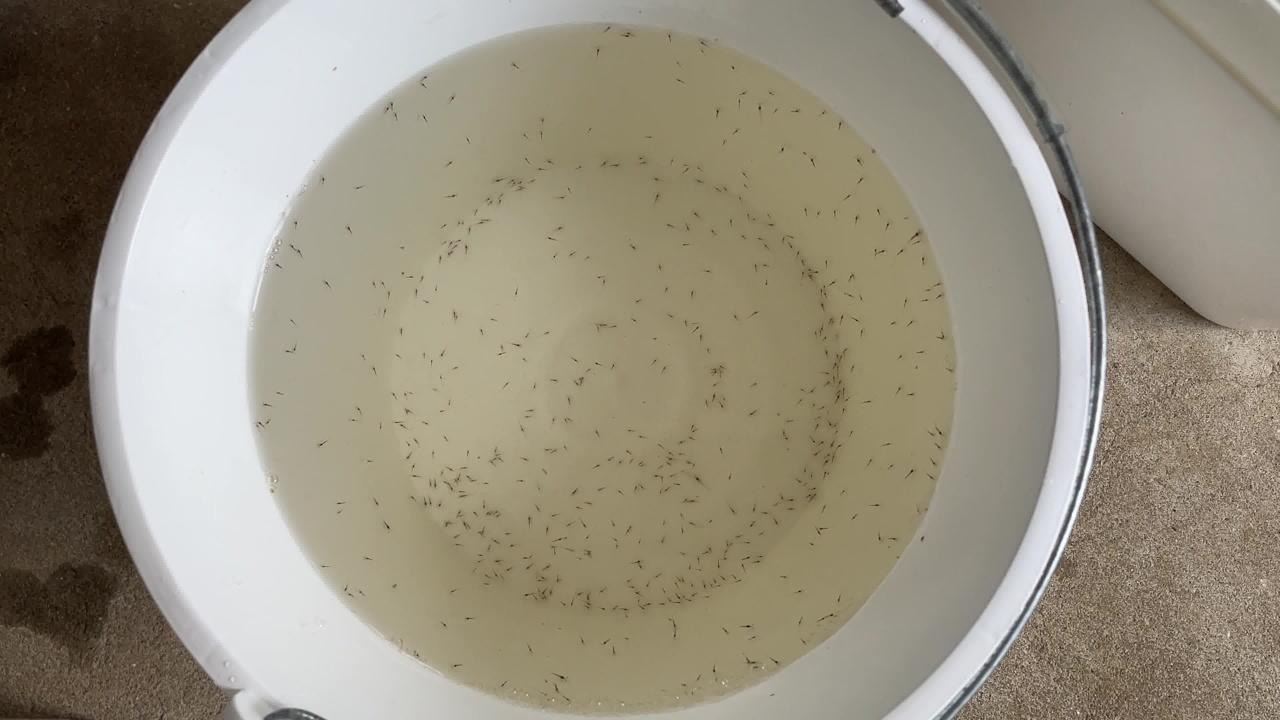shrimp: (287, 244, 299, 252), (295, 250, 307, 258), (275, 259, 287, 267), (290, 221, 302, 229), (319, 182, 331, 190), (341, 221, 353, 229), (355, 188, 367, 196), (322, 281, 334, 289), (286, 320, 298, 328), (282, 351, 294, 359), (292, 345, 304, 353), (280, 389, 292, 397), (262, 401, 274, 409), (254, 421, 266, 429), (264, 419, 276, 427), (315, 444, 327, 452), (336, 498, 348, 506), (335, 509, 347, 517), (347, 419, 359, 427), (352, 410, 364, 418), (318, 564, 330, 572), (340, 586, 352, 594), (345, 593, 357, 601), (359, 588, 371, 596), (361, 556, 373, 564), (385, 522, 397, 530), (372, 501, 384, 509), (364, 461, 376, 469), (375, 426, 387, 434), (356, 355, 368, 363), (368, 370, 380, 378), (388, 392, 400, 400), (397, 392, 409, 400), (405, 390, 417, 398), (393, 354, 405, 362), (380, 314, 392, 322), (371, 281, 383, 289), (378, 279, 390, 287), (382, 292, 394, 300), (382, 105, 394, 113), (387, 99, 399, 107), (392, 114, 404, 122), (419, 82, 431, 90), (419, 76, 431, 84), (419, 113, 431, 121), (444, 98, 456, 106), (511, 63, 523, 71), (592, 50, 604, 58), (598, 27, 610, 35), (616, 35, 628, 43), (624, 30, 636, 38), (660, 34, 672, 42), (676, 61, 688, 69), (675, 81, 687, 89), (694, 51, 706, 59), (693, 37, 705, 45), (537, 133, 549, 141), (520, 130, 532, 138), (465, 140, 477, 148), (446, 160, 458, 168), (449, 196, 461, 204), (398, 244, 410, 252), (397, 268, 409, 276), (407, 273, 419, 281), (421, 275, 433, 283), (410, 287, 422, 295), (395, 329, 407, 337), (421, 299, 433, 307), (433, 284, 445, 292), (432, 251, 444, 259), (441, 225, 453, 233), (438, 239, 450, 247), (444, 239, 456, 247), (452, 236, 464, 244), (448, 244, 460, 252), (445, 252, 457, 260), (453, 220, 465, 228), (465, 226, 477, 234), (462, 246, 474, 254), (470, 209, 482, 217), (482, 218, 494, 226), (475, 221, 487, 229), (482, 203, 494, 211), (483, 193, 495, 201), (493, 174, 505, 182), (495, 193, 507, 201), (495, 199, 507, 207), (504, 177, 516, 185), (513, 178, 525, 186), (520, 184, 532, 192), (515, 186, 527, 194), (527, 179, 539, 187), (523, 159, 535, 167), (538, 168, 550, 176), (543, 158, 555, 166), (426, 360, 438, 368), (421, 351, 433, 359), (433, 351, 445, 359), (452, 314, 464, 322), (450, 368, 462, 376), (436, 375, 448, 383), (428, 389, 440, 397), (401, 407, 413, 415), (393, 419, 405, 427), (399, 424, 411, 432), (422, 419, 434, 427), (435, 409, 447, 417), (448, 400, 460, 408), (409, 439, 421, 447), (402, 440, 414, 448), (402, 450, 414, 458), (408, 461, 420, 469), (412, 471, 424, 479), (428, 450, 440, 458), (439, 437, 451, 445), (501, 381, 513, 389), (496, 352, 508, 360), (498, 346, 510, 354), (475, 330, 487, 338), (487, 318, 499, 326), (511, 292, 523, 300), (508, 344, 520, 352), (517, 355, 529, 363), (522, 333, 534, 341), (547, 331, 559, 339), (551, 255, 563, 263), (550, 237, 562, 245), (553, 226, 565, 234), (557, 193, 569, 201), (565, 186, 577, 194), (575, 166, 587, 174), (585, 127, 597, 135), (537, 116, 549, 124), (729, 65, 741, 73), (739, 90, 751, 98), (735, 100, 747, 108), (713, 107, 725, 115), (649, 134, 661, 142), (635, 154, 647, 162), (638, 161, 650, 169), (597, 160, 609, 168), (607, 160, 619, 168), (566, 248, 578, 256), (581, 258, 593, 266), (597, 273, 609, 281), (599, 282, 611, 290), (887, 535, 899, 543), (874, 535, 886, 543), (821, 613, 833, 621), (816, 619, 828, 627), (835, 597, 847, 605), (825, 611, 837, 619), (799, 618, 811, 626), (799, 642, 811, 650), (447, 661, 459, 669), (390, 584, 402, 592), (440, 620, 452, 628), (448, 589, 460, 597), (462, 613, 474, 621), (527, 645, 539, 653), (497, 682, 509, 690), (557, 672, 569, 680), (550, 682, 562, 690), (539, 690, 551, 698), (561, 694, 573, 702), (608, 651, 620, 659), (599, 642, 611, 650), (580, 640, 592, 648), (621, 638, 633, 646), (671, 632, 683, 640), (671, 625, 683, 633), (666, 618, 678, 626), (713, 668, 725, 676), (693, 676, 705, 684), (676, 684, 688, 692), (725, 628, 737, 636), (741, 622, 753, 630), (746, 635, 758, 643), (751, 657, 763, 665), (741, 656, 753, 664), (774, 661, 786, 669), (754, 664, 766, 672), (792, 593, 804, 601), (780, 577, 792, 585), (430, 480, 442, 488), (425, 480, 437, 488), (427, 503, 439, 511), (421, 502, 433, 510), (404, 498, 416, 506), (435, 506, 447, 514), (444, 486, 456, 494), (438, 472, 450, 480), (463, 450, 475, 458), (522, 416, 534, 424), (524, 408, 536, 416), (530, 379, 542, 387), (547, 381, 559, 389), (571, 360, 583, 368), (518, 425, 530, 433), (445, 470, 457, 478), (452, 482, 464, 490), (455, 476, 467, 484), (457, 465, 469, 473), (467, 477, 479, 485), (463, 473, 475, 481), (475, 455, 487, 463), (486, 461, 498, 469), (496, 457, 508, 465), (488, 457, 500, 465), (494, 451, 506, 459), (490, 448, 502, 456), (437, 522, 449, 530), (445, 521, 457, 529), (458, 495, 470, 503), (453, 488, 465, 496), (454, 509, 466, 517), (456, 513, 468, 521), (459, 523, 471, 531), (466, 522, 478, 530), (469, 512, 481, 520), (478, 482, 490, 490), (452, 529, 464, 537), (452, 539, 464, 547), (471, 530, 483, 538), (479, 527, 491, 535), (478, 500, 490, 508), (483, 509, 495, 517), (487, 512, 499, 520), (492, 510, 504, 518), (494, 516, 506, 524), (492, 537, 504, 545), (487, 542, 499, 550), (478, 552, 490, 560), (479, 558, 491, 566), (473, 565, 485, 573), (481, 572, 493, 580), (481, 580, 493, 588), (491, 570, 503, 578), (493, 559, 505, 567), (500, 533, 512, 541), (511, 543, 523, 551), (517, 479, 529, 487), (520, 457, 532, 465), (723, 142, 735, 150), (733, 127, 745, 135), (684, 169, 696, 177), (680, 158, 692, 166), (652, 176, 664, 184), (653, 194, 665, 202), (666, 157, 678, 165), (629, 242, 641, 250), (591, 325, 603, 333), (602, 321, 614, 329), (608, 327, 620, 335), (577, 380, 589, 388), (576, 373, 588, 381), (570, 381, 582, 389), (584, 371, 596, 379), (593, 361, 605, 369), (607, 365, 619, 373), (630, 317, 642, 325), (634, 301, 646, 309), (648, 336, 660, 344), (649, 356, 661, 364), (659, 364, 671, 372), (564, 418, 576, 426), (560, 419, 572, 427), (566, 398, 578, 406), (550, 417, 562, 425), (680, 323, 692, 331), (688, 320, 700, 328), (667, 313, 679, 321), (660, 286, 672, 294), (656, 263, 668, 271), (686, 292, 698, 300), (694, 334, 706, 342), (705, 349, 717, 357), (732, 314, 744, 322), (748, 314, 760, 322), (700, 270, 712, 278), (664, 218, 676, 226), (682, 240, 694, 248), (692, 212, 704, 220), (681, 226, 693, 234), (697, 168, 709, 176), (698, 179, 710, 187), (756, 106, 768, 114), (766, 91, 778, 99), (792, 109, 804, 117), (772, 109, 784, 117), (776, 149, 788, 157), (809, 157, 821, 165), (800, 151, 812, 159), (817, 110, 829, 118), (832, 120, 844, 128), (854, 163, 866, 171), (857, 178, 869, 186), (842, 194, 854, 202), (830, 208, 842, 216), (812, 211, 824, 219), (799, 209, 811, 217), (741, 171, 753, 179), (725, 185, 737, 193), (716, 187, 728, 195), (745, 183, 757, 191), (737, 197, 749, 205), (706, 231, 718, 239), (725, 221, 737, 229), (569, 490, 581, 498), (548, 450, 560, 458), (542, 447, 554, 455), (558, 447, 570, 455), (543, 470, 555, 478), (533, 486, 545, 494), (534, 506, 546, 514), (524, 518, 536, 526), (504, 568, 516, 576), (517, 554, 529, 562), (527, 553, 539, 561), (520, 566, 532, 574), (521, 590, 533, 598), (558, 602, 570, 610), (569, 603, 581, 611), (572, 589, 584, 597), (600, 588, 612, 596), (585, 592, 597, 600), (583, 599, 595, 607), (582, 605, 594, 613), (598, 608, 610, 616), (622, 614, 634, 622), (619, 608, 631, 616), (610, 607, 622, 615), (627, 527, 639, 535), (607, 537, 619, 545), (552, 515, 564, 523), (611, 544, 623, 552), (607, 521, 619, 529), (542, 528, 554, 536), (556, 538, 568, 546), (545, 545, 557, 553), (551, 553, 563, 561), (578, 528, 590, 536), (562, 522, 574, 530), (567, 547, 579, 555), (584, 552, 596, 560), (584, 545, 596, 553), (574, 557, 586, 565), (574, 505, 586, 513), (587, 503, 599, 511), (596, 487, 608, 495), (591, 464, 603, 472), (593, 430, 605, 438), (604, 457, 616, 465), (542, 565, 554, 573), (539, 571, 551, 579), (534, 575, 546, 583), (554, 576, 566, 584), (547, 592, 559, 600), (538, 598, 550, 606), (528, 598, 540, 606), (540, 591, 552, 599), (532, 589, 544, 597), (620, 574, 632, 582), (624, 582, 636, 590), (631, 590, 643, 598), (631, 601, 643, 609), (643, 600, 655, 608), (644, 581, 656, 589), (637, 566, 649, 574), (634, 559, 646, 567), (636, 538, 648, 546), (661, 600, 673, 608), (660, 589, 672, 597), (655, 572, 667, 580), (659, 538, 671, 546), (659, 519, 671, 527), (618, 491, 630, 499), (615, 458, 627, 466), (623, 449, 635, 457), (623, 426, 635, 434), (635, 436, 647, 444), (738, 235, 750, 243), (742, 212, 754, 220), (752, 217, 764, 225), (766, 212, 778, 220), (768, 221, 780, 229), (755, 236, 767, 244), (763, 243, 775, 251), (750, 264, 762, 272), (760, 280, 772, 288), (758, 262, 770, 270), (776, 237, 788, 245), (786, 231, 798, 239), (785, 242, 797, 250), (792, 250, 804, 258), (800, 257, 812, 265), (799, 273, 811, 281), (813, 270, 825, 278), (803, 264, 815, 272), (806, 274, 818, 282), (821, 261, 833, 269), (848, 216, 860, 224), (870, 208, 882, 216), (884, 227, 896, 235), (869, 247, 881, 255), (877, 251, 889, 259), (898, 249, 910, 257), (912, 229, 924, 237), (912, 238, 924, 246), (918, 258, 930, 266), (923, 286, 935, 294), (920, 295, 932, 303), (936, 279, 948, 287), (933, 291, 945, 299), (940, 332, 952, 340), (935, 336, 947, 344), (946, 370, 958, 378), (922, 476, 934, 484), (930, 461, 942, 469), (935, 449, 947, 457), (924, 427, 936, 435), (938, 427, 950, 435), (904, 463, 916, 471), (872, 501, 884, 509), (850, 517, 862, 525), (821, 526, 833, 534), (813, 530, 825, 538), (805, 543, 817, 551), (816, 504, 828, 512), (840, 491, 852, 499), (865, 456, 877, 464), (877, 442, 889, 450), (889, 465, 901, 473), (889, 322, 901, 330), (901, 301, 913, 309), (906, 318, 918, 326), (895, 355, 907, 363), (891, 388, 903, 396), (863, 397, 875, 405), (913, 393, 925, 401), (912, 365, 924, 373), (918, 349, 930, 357), (715, 447, 727, 455), (701, 402, 713, 410), (709, 393, 721, 401), (710, 372, 722, 380), (708, 366, 720, 374), (718, 362, 730, 370), (718, 371, 730, 379), (709, 380, 721, 388), (715, 405, 727, 413), (720, 398, 732, 406), (815, 289, 827, 297), (822, 294, 834, 302), (819, 284, 831, 292), (747, 384, 759, 392), (746, 409, 758, 417), (629, 487, 641, 495), (637, 485, 649, 493), (623, 458, 635, 466), (635, 463, 647, 471), (690, 430, 702, 438), (686, 425, 698, 433), (685, 436, 697, 444), (676, 442, 688, 450), (651, 441, 663, 449), (666, 449, 678, 457), (678, 451, 690, 459), (667, 456, 679, 464), (663, 462, 675, 470), (657, 463, 669, 471), (652, 473, 664, 481), (656, 477, 668, 485), (843, 276, 855, 284), (828, 281, 840, 289), (852, 274, 864, 282), (843, 291, 855, 299), (855, 297, 867, 305), (849, 319, 861, 327), (816, 303, 828, 311), (823, 317, 835, 325), (828, 320, 840, 328), (839, 314, 851, 322), (858, 333, 870, 341), (783, 437, 795, 445), (777, 427, 789, 435), (774, 411, 786, 419), (694, 474, 706, 482), (654, 489, 666, 497), (673, 482, 685, 490), (688, 464, 700, 472), (683, 458, 695, 466), (672, 471, 684, 479), (662, 488, 674, 496), (676, 497, 688, 505), (689, 499, 701, 507), (694, 495, 706, 503), (726, 476, 738, 484), (676, 514, 688, 522), (677, 532, 689, 540), (678, 553, 690, 561), (669, 583, 681, 591), (672, 603, 684, 611), (673, 594, 685, 602), (670, 575, 682, 583), (682, 578, 694, 586), (685, 564, 697, 572), (688, 520, 700, 528), (705, 518, 717, 526), (729, 510, 741, 518), (820, 324, 832, 332), (816, 332, 828, 340), (810, 330, 822, 338), (821, 353, 833, 361), (839, 348, 851, 356), (832, 351, 844, 359), (836, 359, 848, 367), (828, 363, 840, 371), (818, 368, 830, 376), (822, 383, 834, 391), (831, 374, 843, 382), (795, 388, 807, 396), (809, 390, 821, 398), (792, 397, 804, 405), (785, 418, 797, 426), (746, 506, 758, 514), (755, 531, 767, 539), (750, 519, 762, 527), (768, 519, 780, 527), (756, 512, 768, 520), (773, 502, 785, 510), (781, 507, 793, 515), (776, 494, 788, 502), (788, 500, 800, 508), (694, 557, 706, 565), (698, 550, 710, 558), (705, 545, 717, 553), (688, 587, 700, 595), (683, 599, 695, 607), (701, 597, 713, 605), (715, 585, 727, 593), (734, 580, 746, 588), (719, 555, 731, 563), (726, 545, 738, 553), (721, 537, 733, 545), (714, 563, 726, 571), (698, 578, 710, 586), (709, 574, 721, 582), (706, 582, 718, 590), (719, 576, 731, 584), (737, 564, 749, 572), (754, 563, 766, 571), (733, 532, 745, 540), (743, 557, 755, 565), (740, 540, 752, 548), (757, 556, 769, 564), (811, 496, 823, 504), (848, 366, 860, 374), (834, 396, 846, 404), (832, 386, 844, 394), (841, 391, 853, 399), (807, 402, 819, 410), (807, 486, 819, 494), (790, 478, 802, 486), (823, 472, 835, 480), (846, 434, 858, 442), (821, 471, 833, 479), (800, 482, 812, 490), (798, 469, 810, 477), (807, 475, 819, 483), (815, 415, 827, 423), (818, 404, 830, 412), (837, 409, 849, 417), (812, 427, 824, 435), (830, 457, 842, 465), (809, 436, 821, 444), (825, 420, 837, 428), (830, 423, 842, 431), (831, 428, 843, 436), (811, 448, 823, 456), (818, 437, 830, 445), (833, 446, 845, 454), (819, 462, 831, 470), (830, 445, 842, 453), (825, 454, 837, 462), (920, 443, 932, 451)
